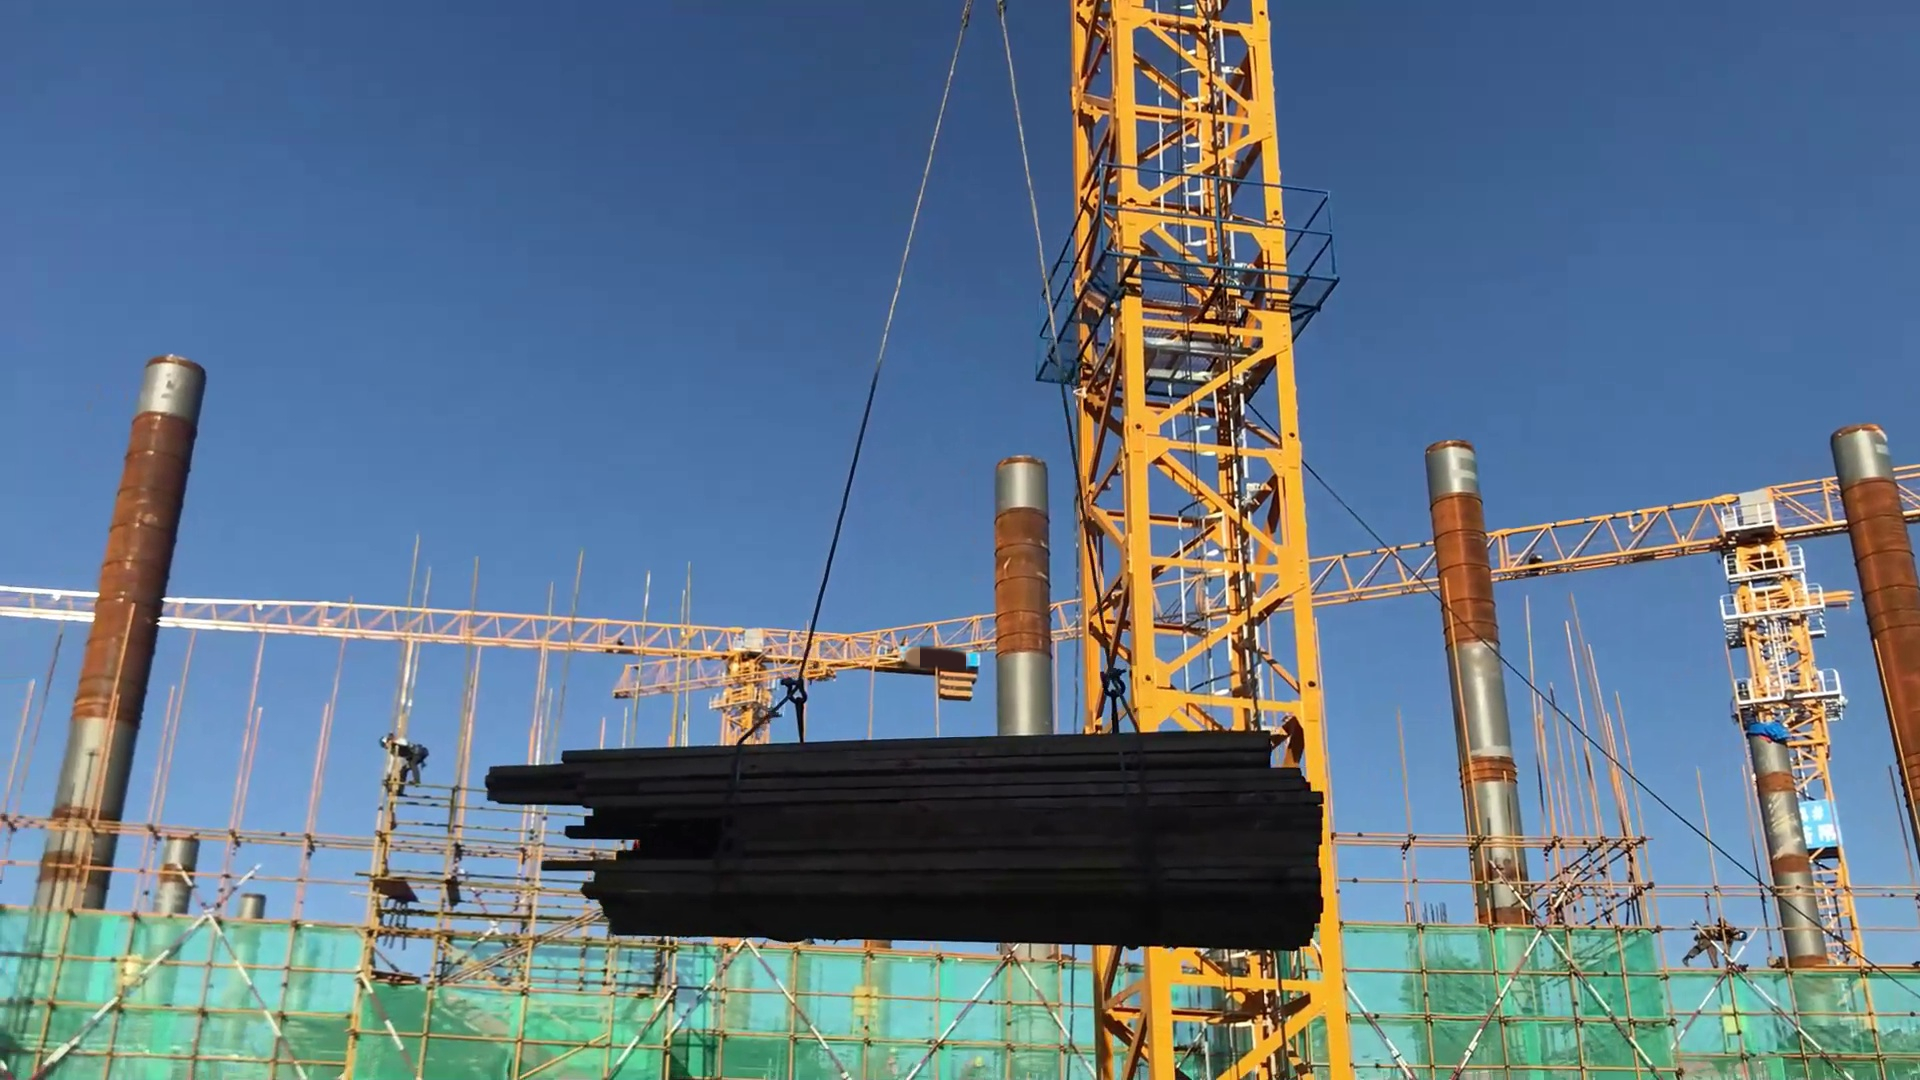wood: (488, 720, 1338, 945)
